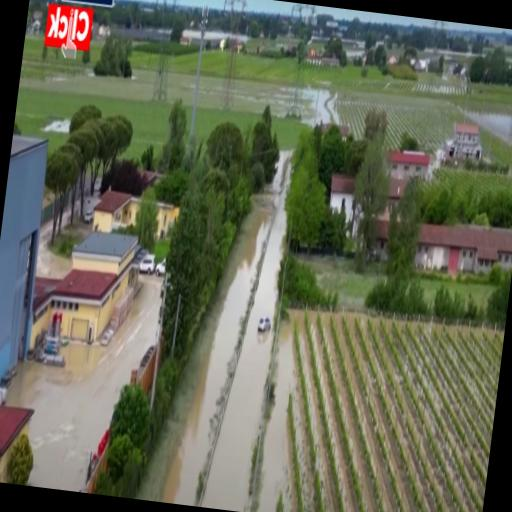flood: (139, 149, 292, 511), (253, 310, 505, 512), (6, 275, 162, 490), (314, 88, 353, 131), (468, 110, 512, 143)
house: (0, 131, 53, 408), (46, 224, 142, 356), (361, 211, 512, 294), (0, 394, 35, 485), (440, 120, 484, 180), (386, 140, 432, 188), (89, 186, 132, 232), (326, 170, 358, 212)
